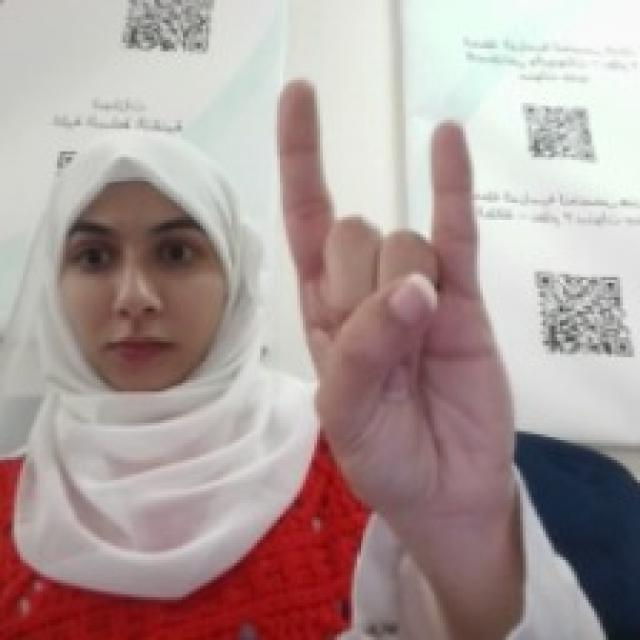No: (269, 60, 514, 511)
